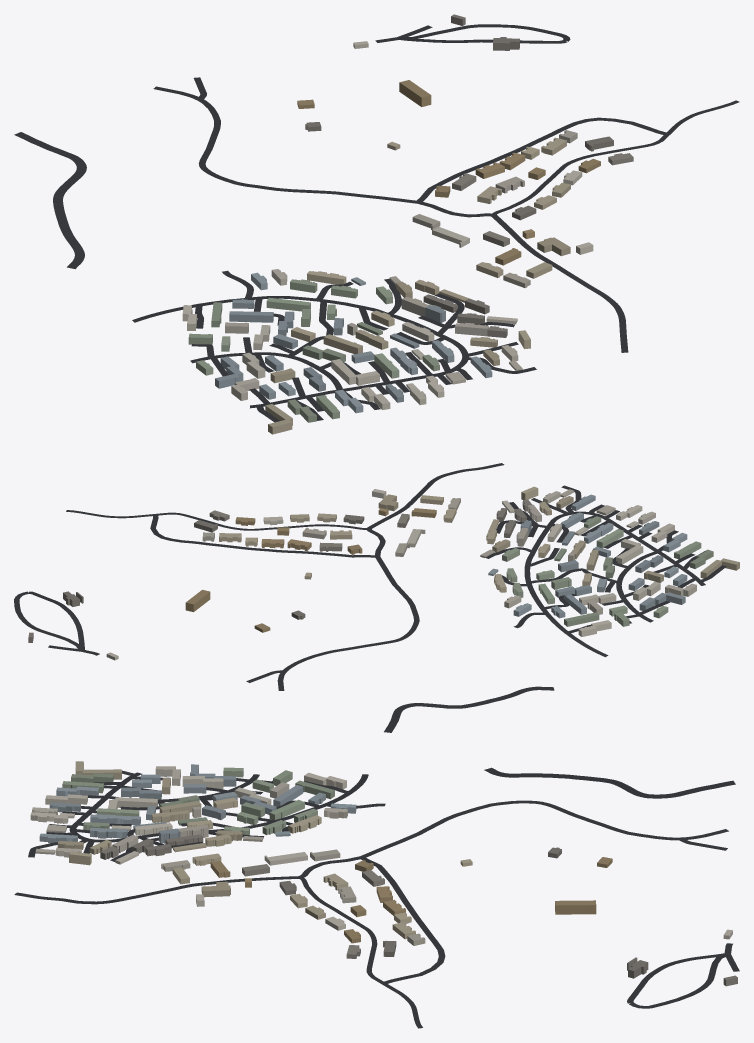
The model's file is tile_5_10.glb.
The picture shows the model from 3 angles, top to bottom: view 1: azimuth 30°, elevation 25°; view 2: azimuth 150°, elevation 25°; view 3: azimuth 270°, elevation 25°; orthographic projection. The views are drawn at different scales.
Parts seen in each view (by area): view 1: bld_5_10, road_5_10; view 2: bld_5_10, road_5_10; view 3: bld_5_10, road_5_10.
Boxes of the visible parts, <box> form: bld_5_10: <box>182,14,633,434</box>; road_5_10: <box>14,24,739,422</box>; bld_5_10: <box>28,486,739,660</box>; road_5_10: <box>14,463,726,732</box>; bld_5_10: <box>30,761,737,986</box>; road_5_10: <box>14,767,739,1028</box>.
Size of the model in its own units: 816 by 75.26 by 827.
